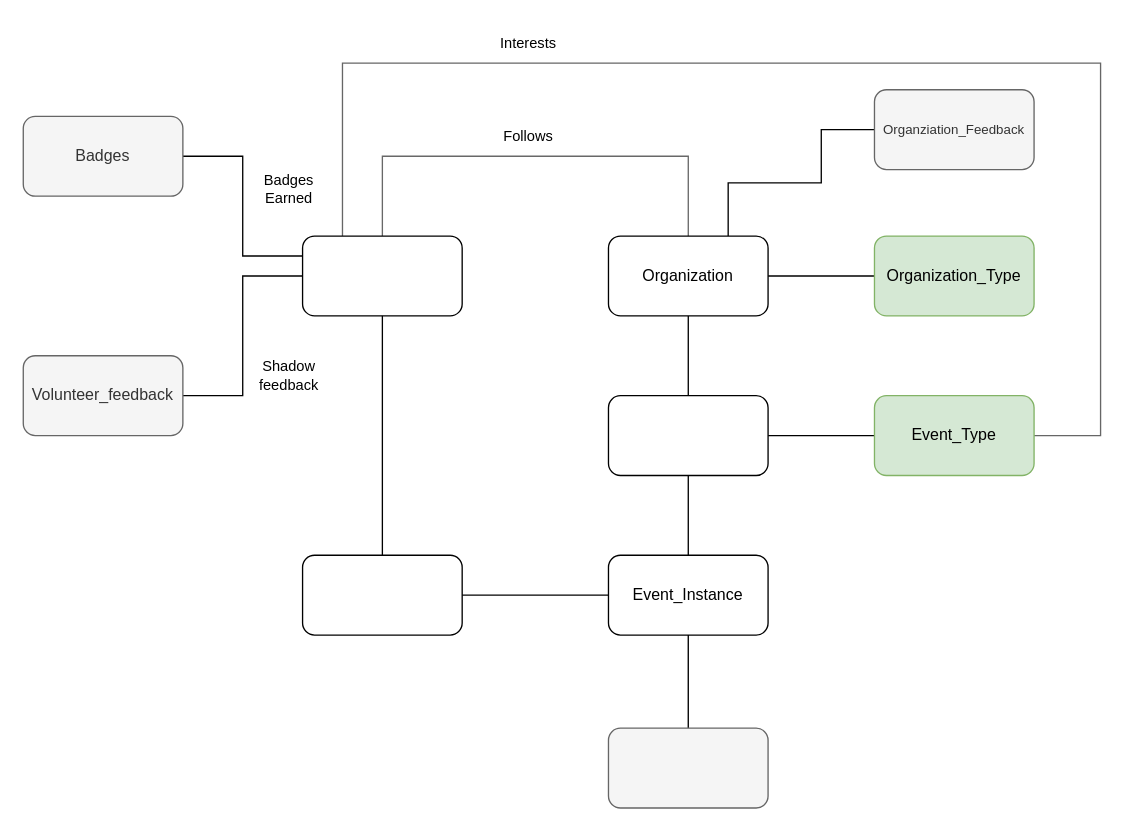
Image size: 1125x831. Some labels were removed from this diagram. Here are the shapes that lost their labels. From the top down, the centre of each, then its label:
At point 381,275: "Volunteer".
At point 687,434: "Events".
At point 381,594: "Participants".
At point 687,767: "Event_Feedback".
